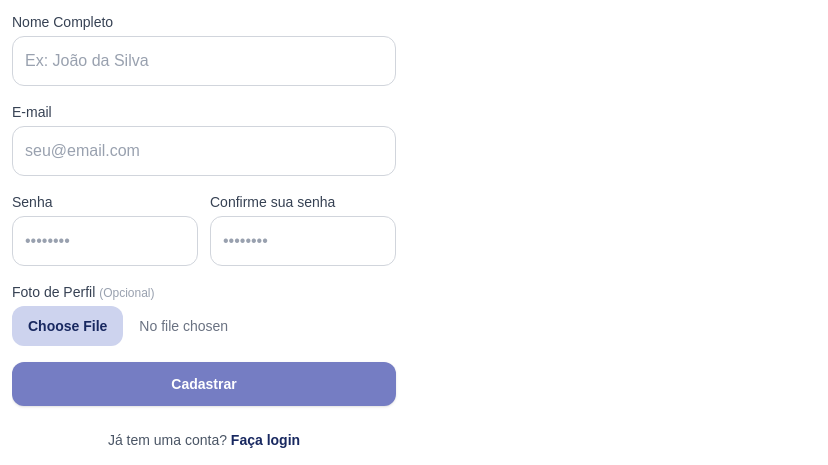
Test: [US01] RegisterAuth › Deve exibir Toast de erro quando a API rejeitar o cadastro com mensagem específica
In the field labelled "Nome Completo": {"x": 204, "y": 61} 12,36 -> 396,86, type "Carlos Souza"
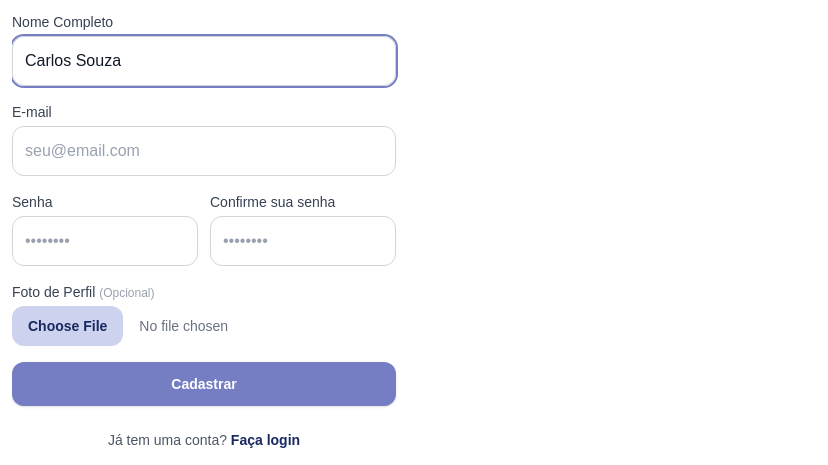
In the field labelled "E-mail": {"x": 204, "y": 151} 12,126 -> 396,176, type "carlos.duplicado@uefs.br"
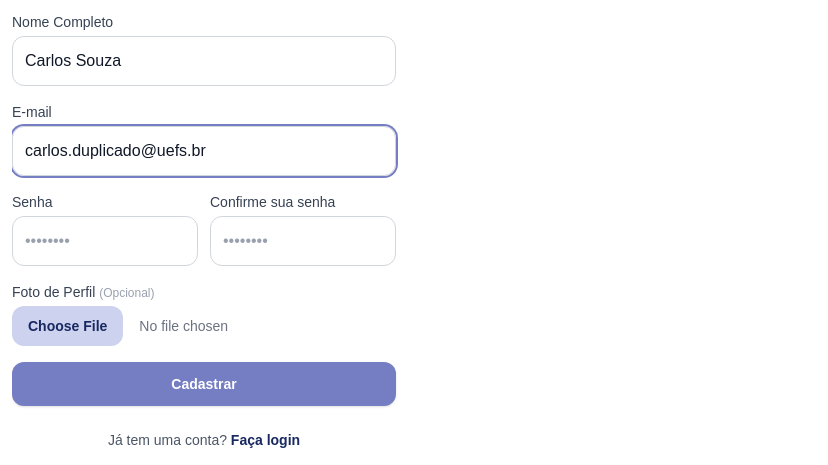
In the password field labelled "Senha": {"x": 105, "y": 241} 12,216 -> 198,266, type "Senha@123"
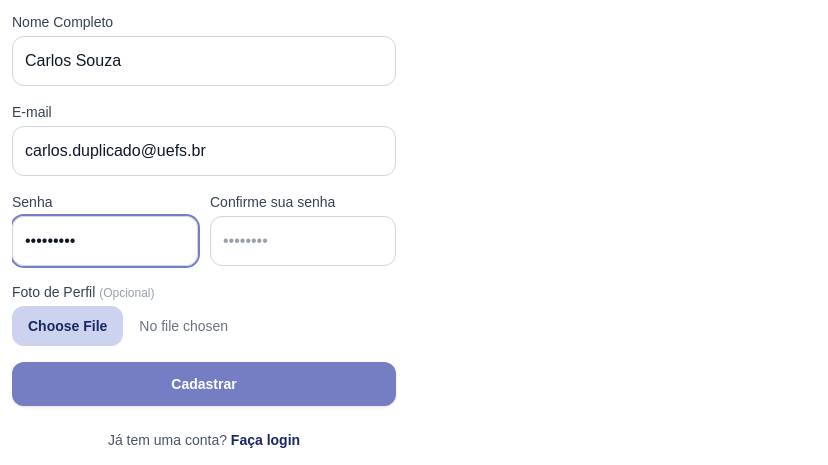
In the password field labelled "Confirme sua senha": {"x": 303, "y": 241} 210,216 -> 396,266, type "Senha@123"
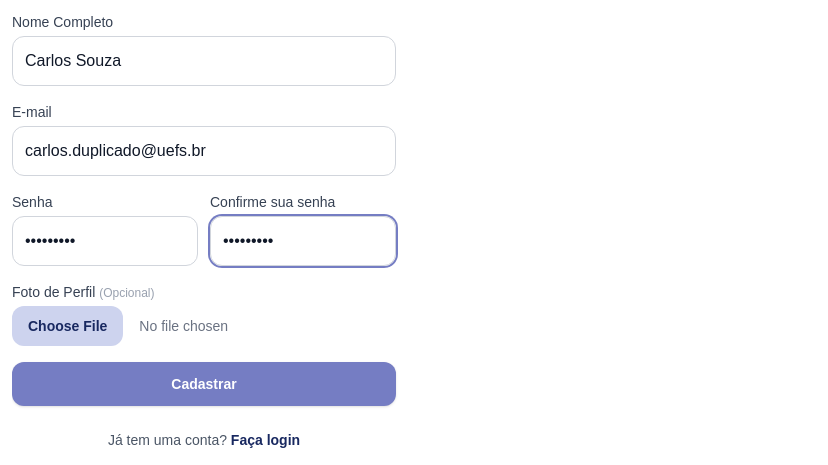
Click the button "Cadastrar": {"x": 204, "y": 384} 12,362 -> 396,406
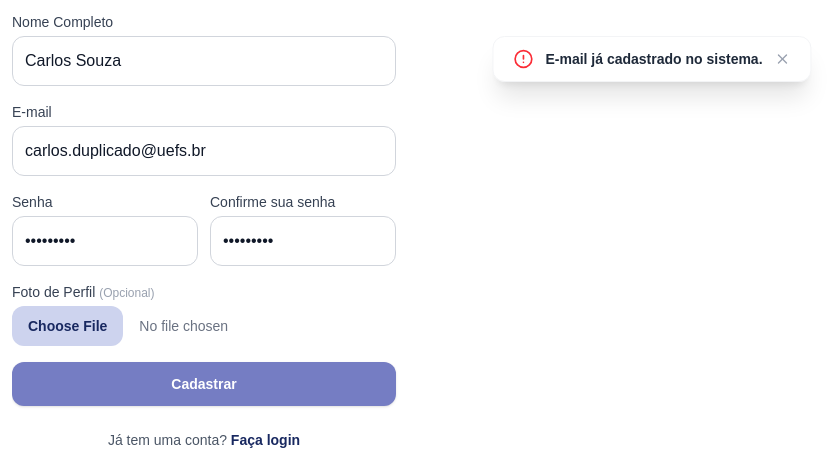
Now the text "E-mail já cadastrado no sistema." is shown, box 546,49 -> 763,69
